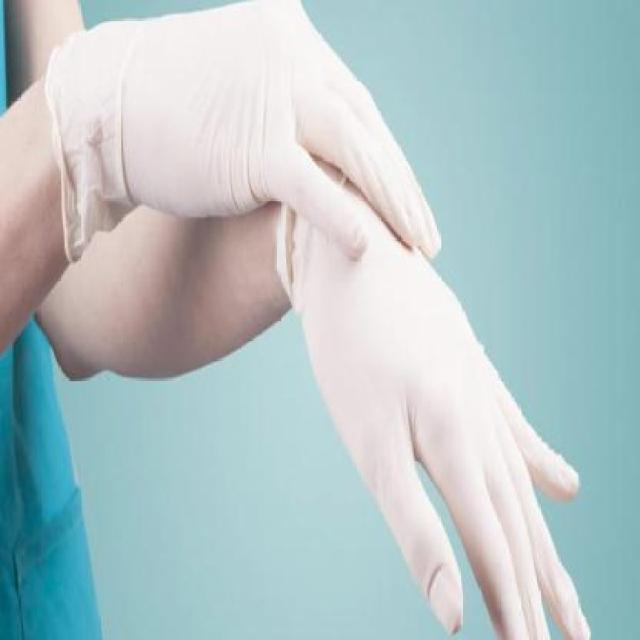glove_hand: (272, 170, 605, 638), (41, 8, 453, 287)
